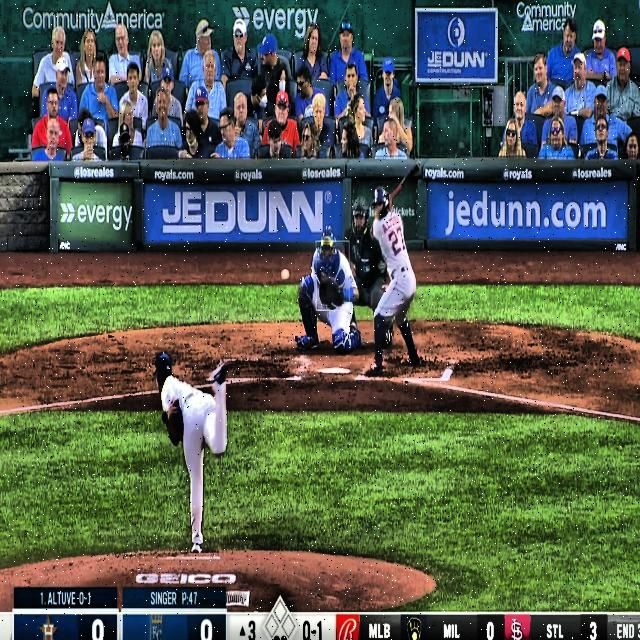baseball: (281, 269, 290, 280)
